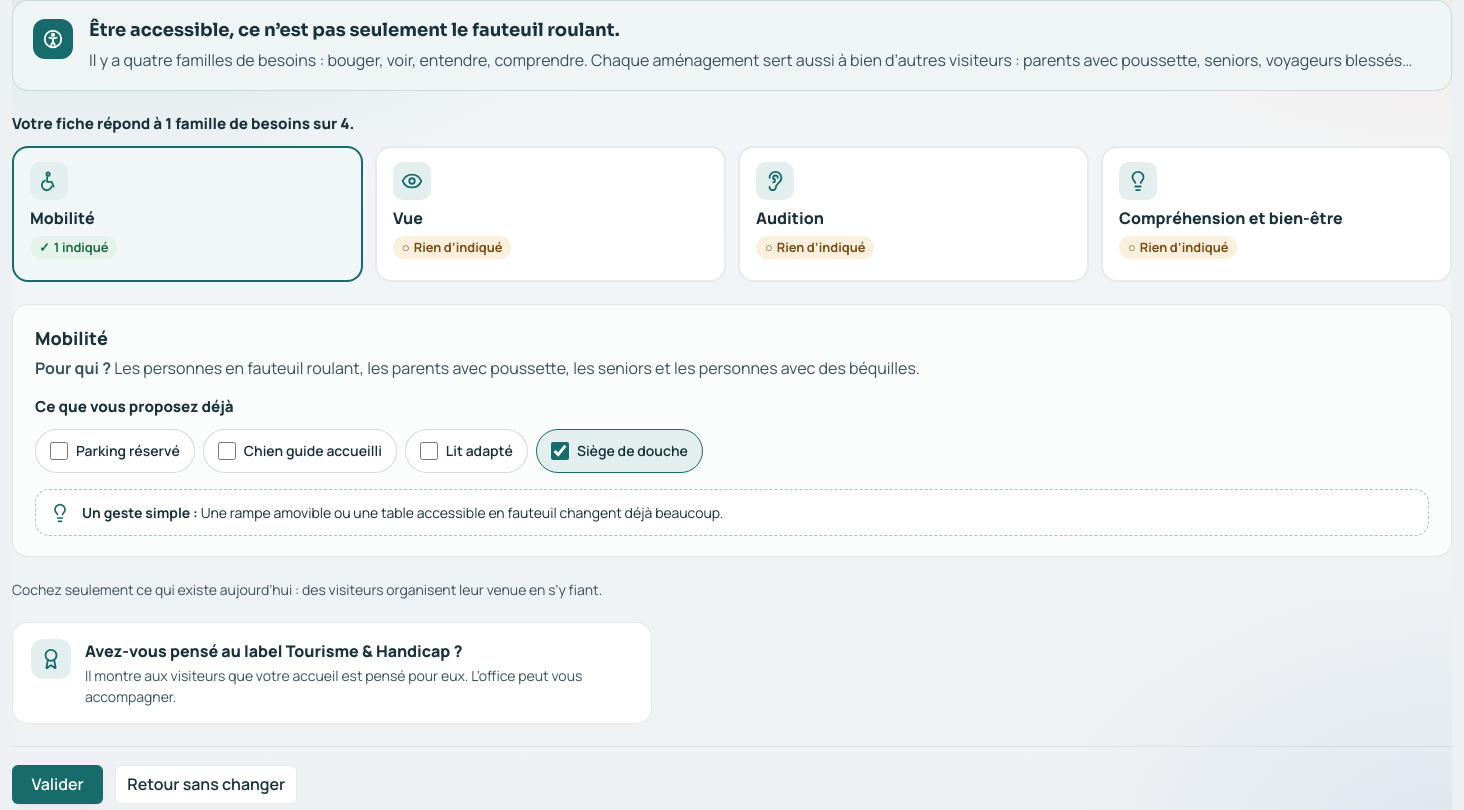
Scenario: un même aménagement reste coché en passant d’une famille à l’autre
The width and height of the screenshot is (1464, 810).
Expected: the checkbox labelled "Lit adapté" is shown, [420,442,438,460]
Click the checkbox labelled "Chien guide accueilli". click: (227, 451)
box: [218,442,236,460]
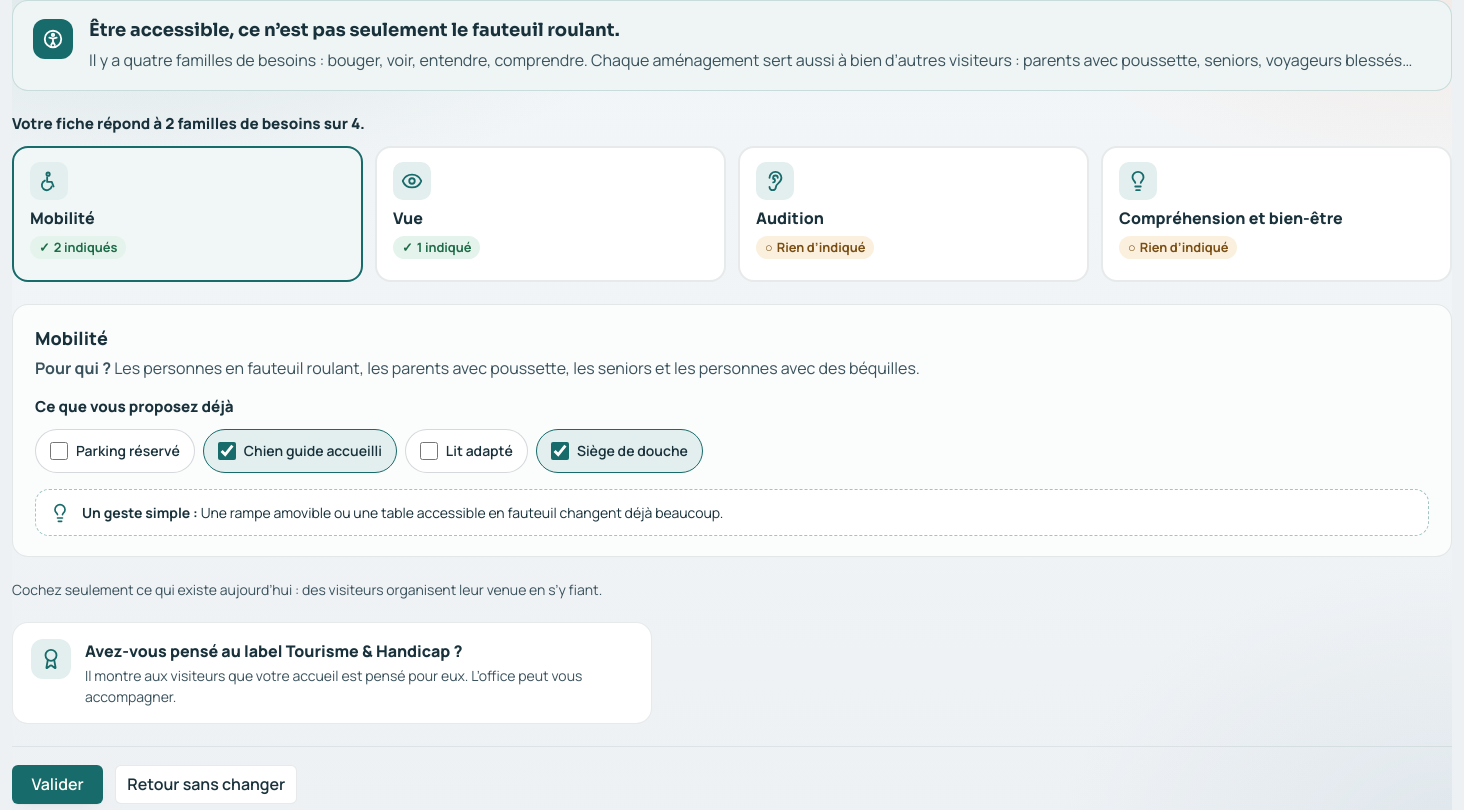
Click the button "Vue 1 indiqué". click: (412, 181)
box: [375,146,726,282]
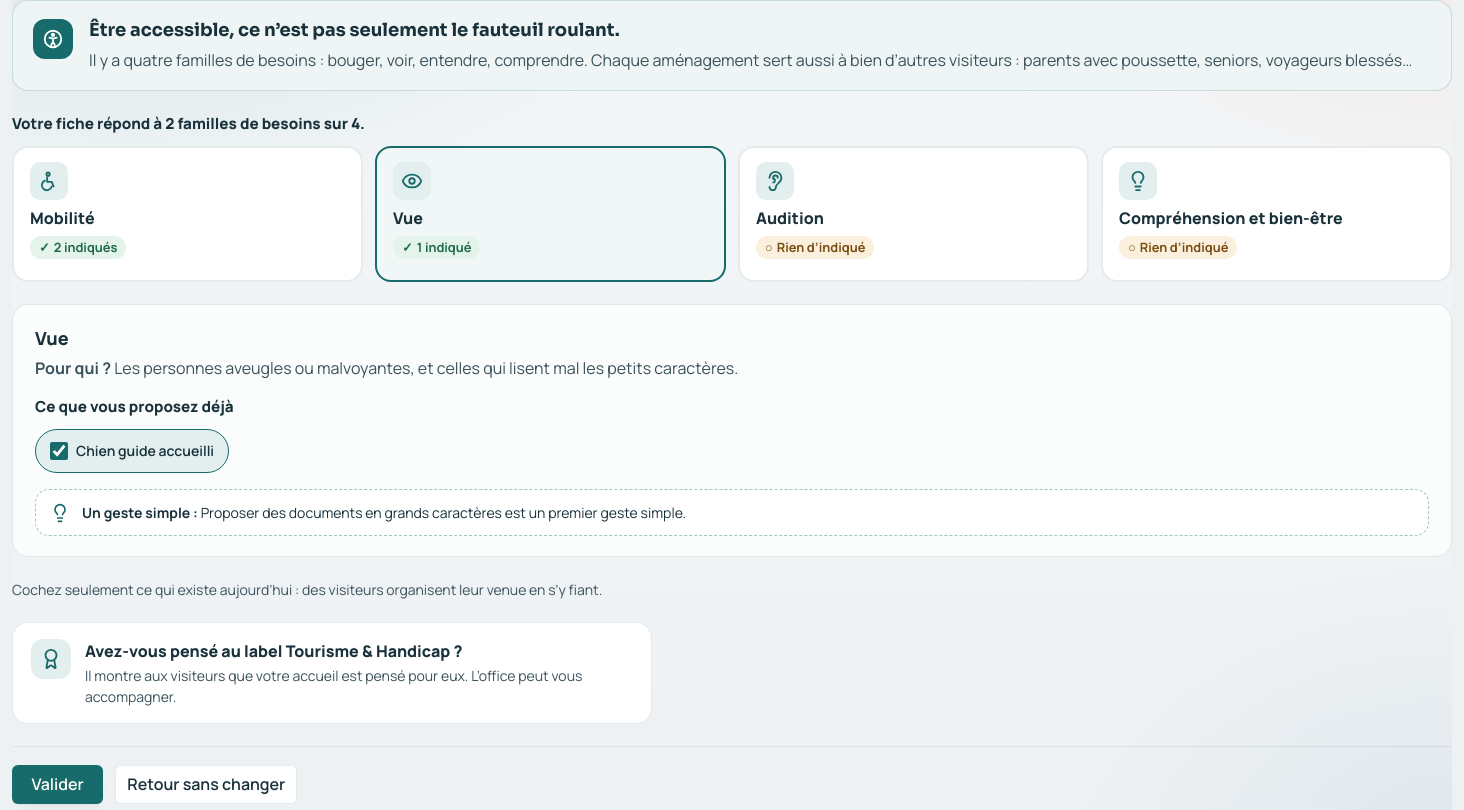
Expected: the checkbox labelled "Chien guide accueilli" is checked, [50,442,68,460]
Expected: the text labelled "Lit adapté" is gone
